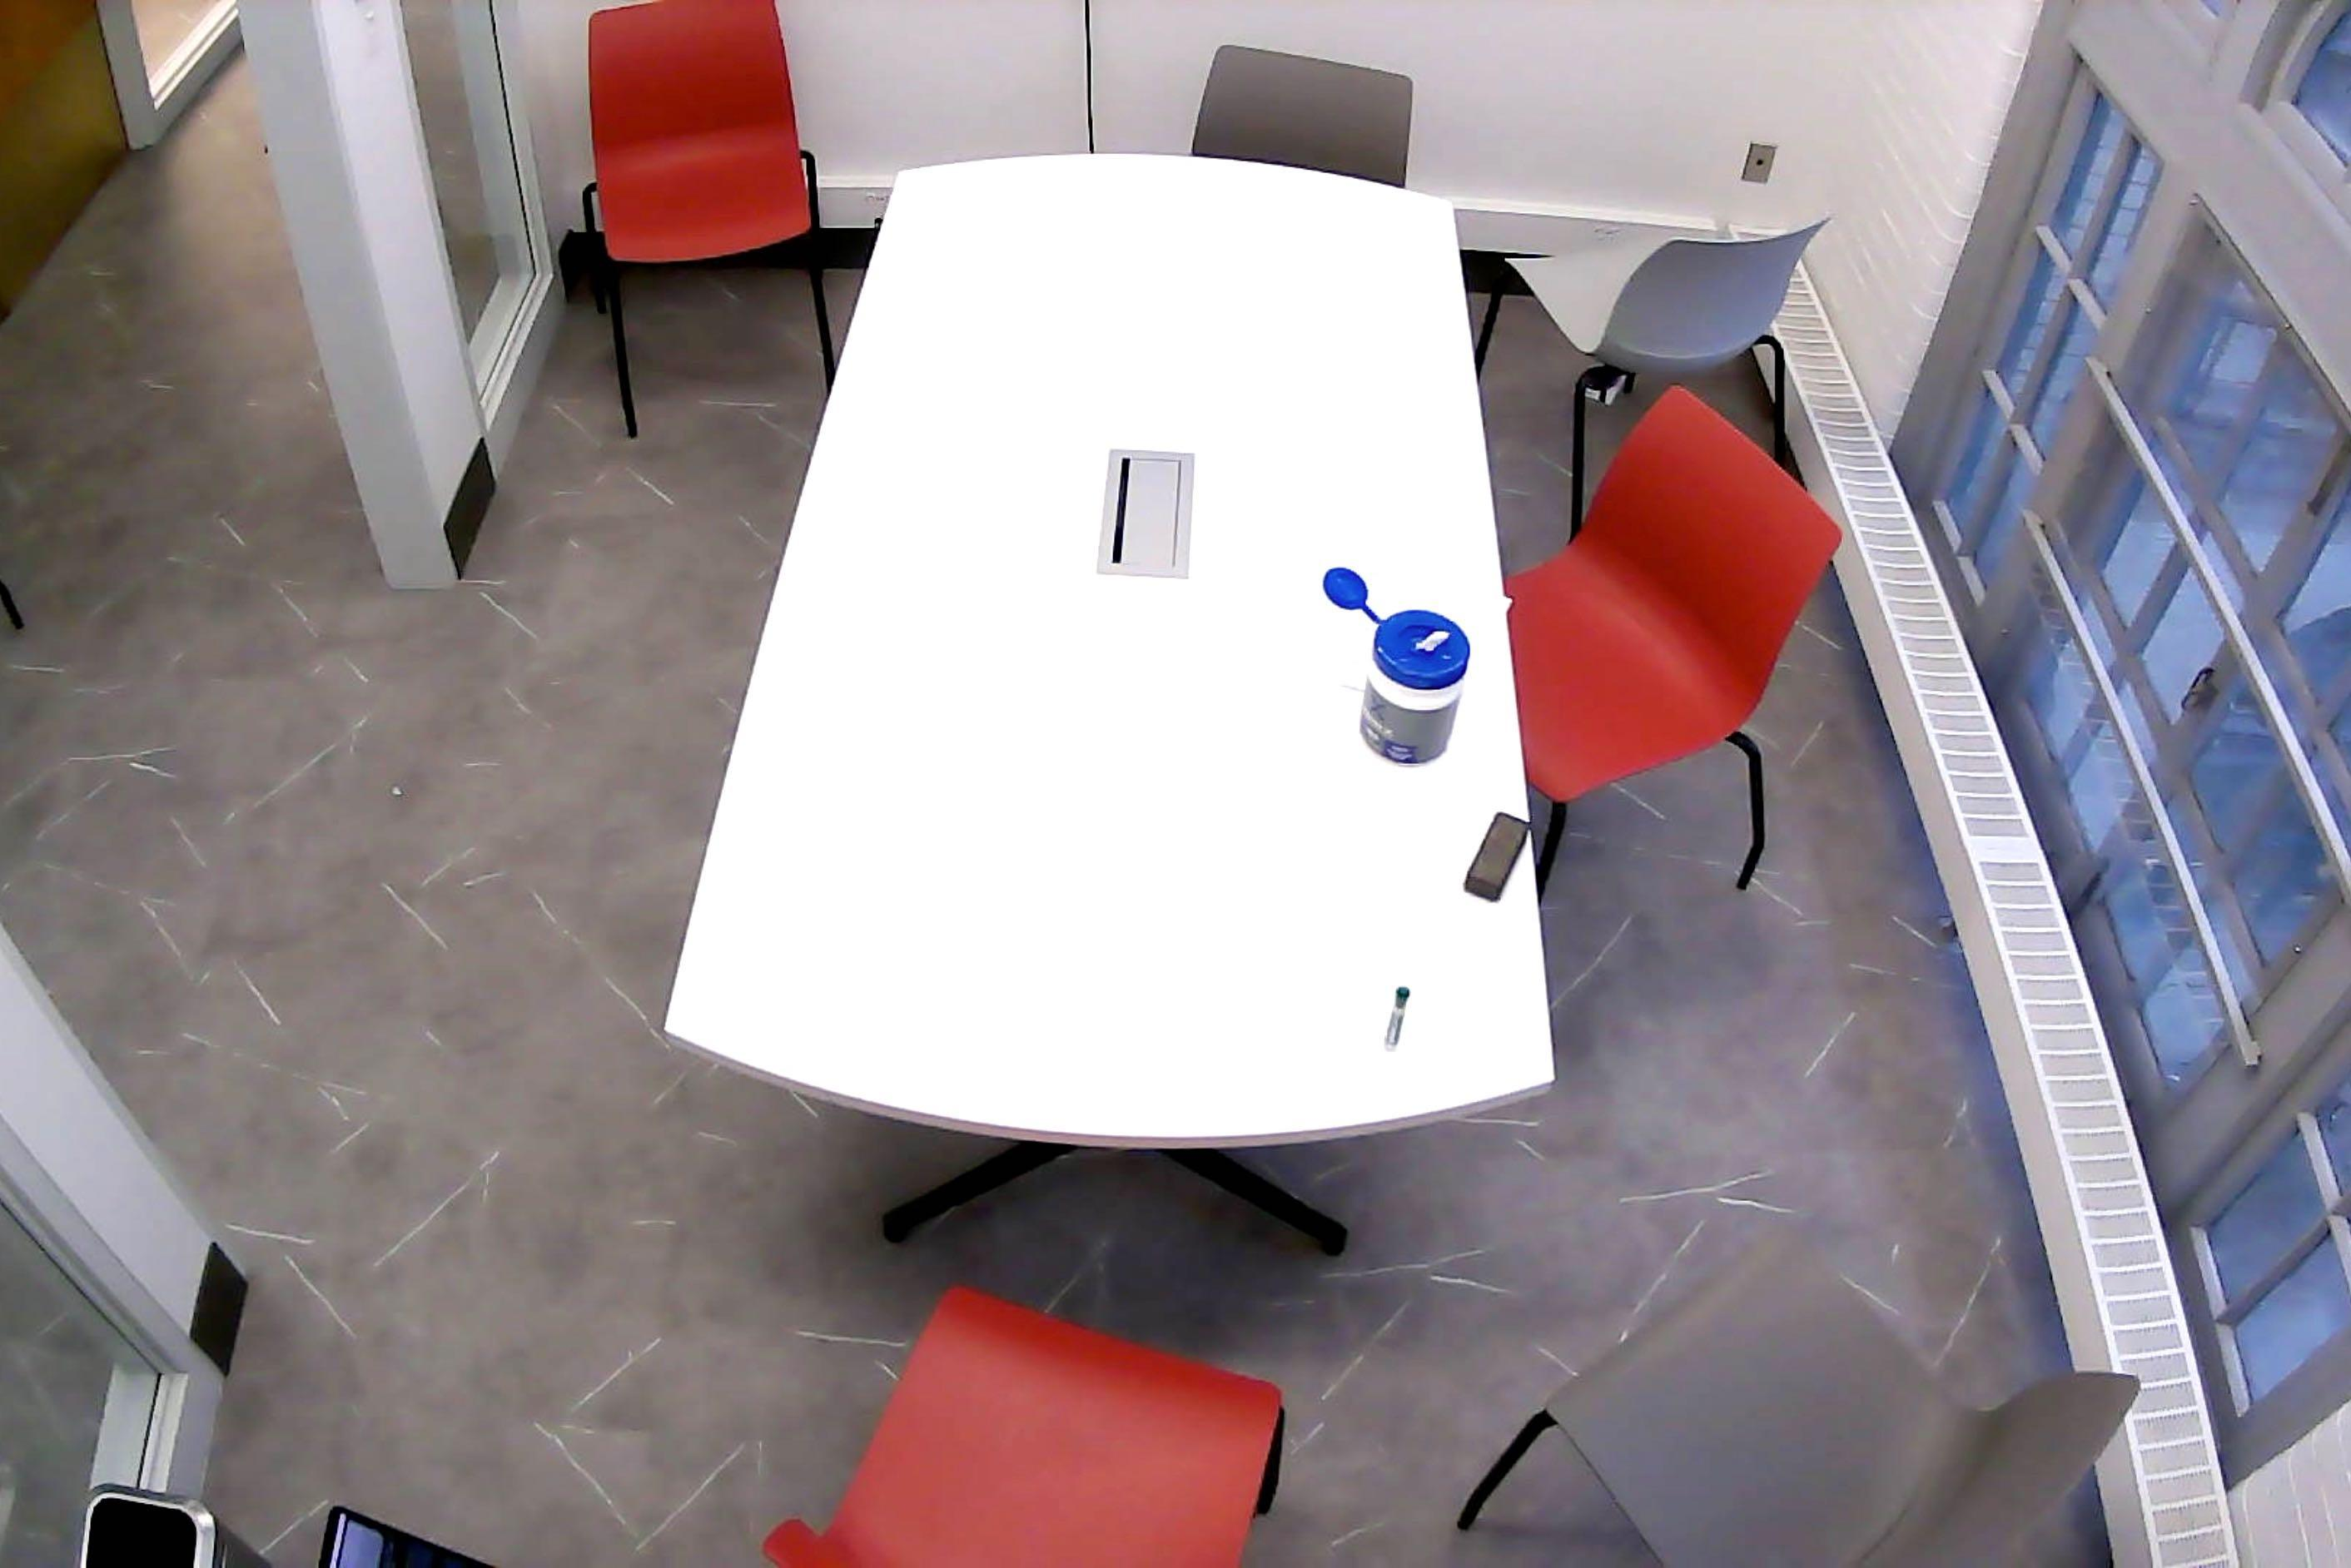Chair: (1462, 1239, 2144, 1568), (1518, 387, 1833, 901), (760, 1278, 1301, 1568), (1483, 205, 1833, 509), (583, 0, 837, 376), (1201, 44, 1416, 179)
Dining Table: (648, 151, 1556, 1253)
